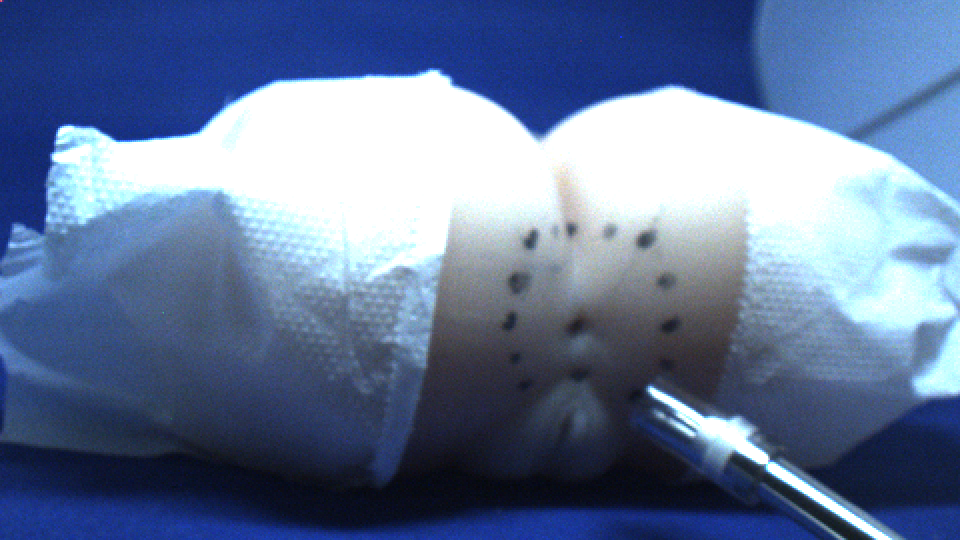asarp_marker: (504, 265, 533, 296), (518, 224, 545, 257), (656, 314, 689, 337), (560, 215, 586, 242), (634, 223, 660, 249), (656, 268, 682, 293), (571, 365, 595, 389), (500, 311, 523, 334), (656, 354, 678, 378), (603, 223, 619, 243), (519, 380, 540, 395), (508, 345, 523, 365)
